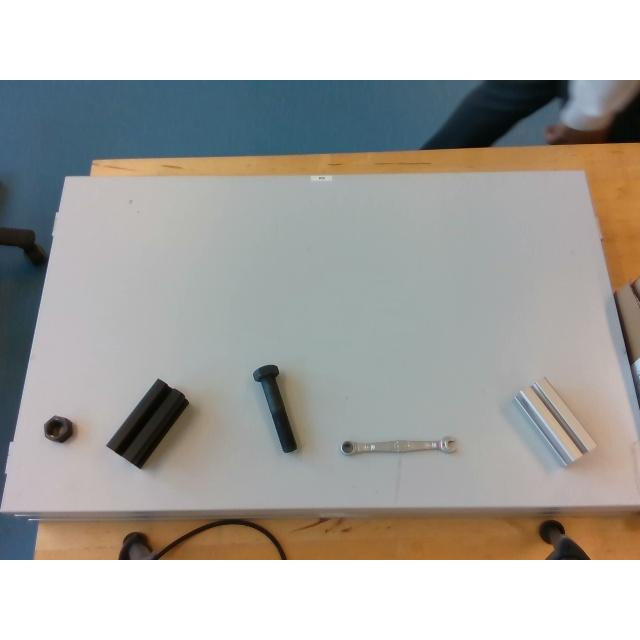M20: (44, 416, 72, 442)
M20_100: (251, 363, 297, 452)
S40_40_B: (107, 379, 187, 467)
S40_40_G: (514, 376, 596, 464)
Wrench: (340, 436, 456, 456)
